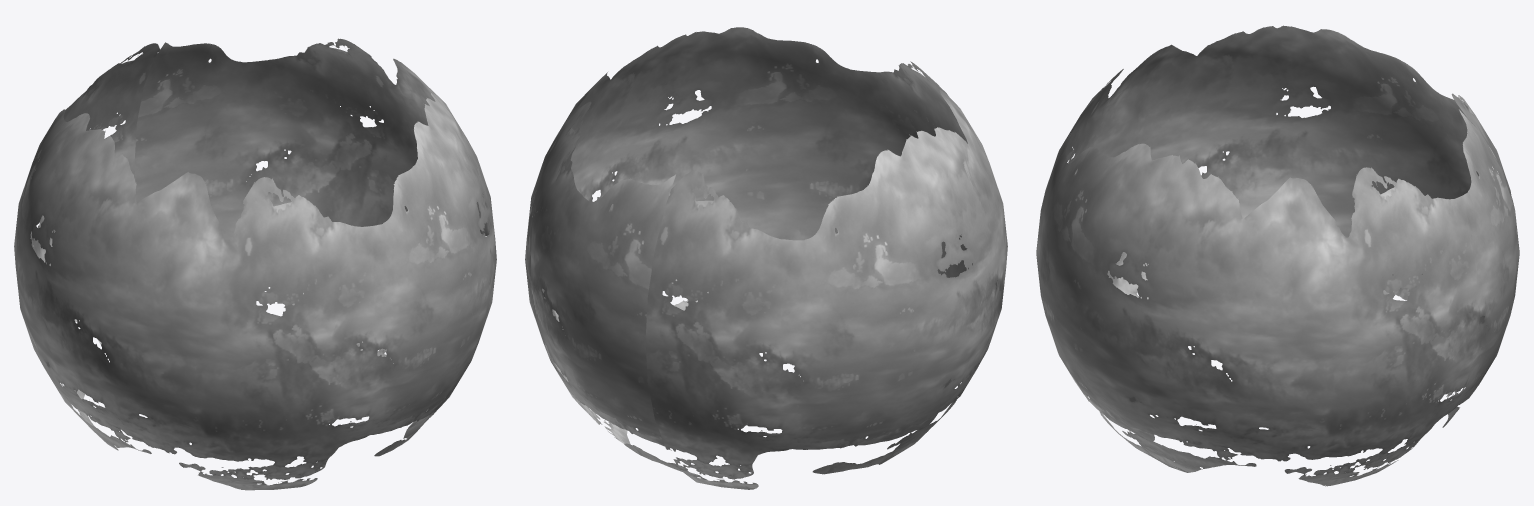
File: CloudSphere1.fbx
The picture shows the model from 3 angles, left to right: view 1: azimuth 30°, elevation 25°; view 2: azimuth 150°, elevation 25°; view 3: azimuth 270°, elevation 25°; orthographic projection.
Parts seen in each view (by area): view 1: Sphere.011; view 2: Sphere.011; view 3: Sphere.011.
Part boxes in pixels (x1,y1,x2,y2): Sphere.011: [14, 38, 496, 490]; Sphere.011: [525, 27, 1007, 489]; Sphere.011: [1036, 25, 1519, 486].
Bounding box in the file's own units: 15359 × 12771 × 15359.
